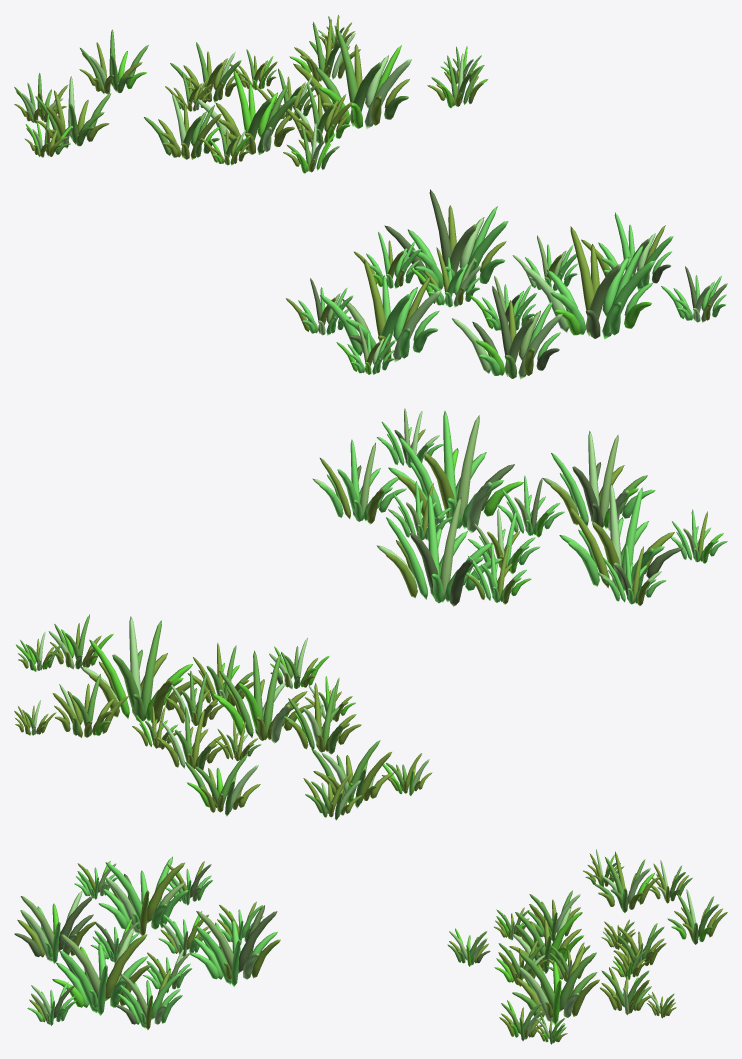
The model's file is Grama_pronta.fbx.
3 views of the same model, one above another, from view 1: azimuth 30°, elevation 25°; view 2: azimuth 150°, elevation 25°; view 3: azimuth 270°, elevation 25° (orthographic). The views are drawn at different scales.
Parts seen in each view (by area): view 1: Cube.098, Cube.109; view 2: Cube.098, Cube.109; view 3: Cube.098, Cube.109.
Part boxes in pixels (x1,y1,x2,y2): Cube.098: (286,189,727,379); Cube.109: (14,15,487,173); Cube.098: (312,408,727,606); Cube.109: (14,614,432,820); Cube.098: (14,856,280,1030); Cube.109: (447,849,727,1044).
Size of the model in its own units: 14445 by 3026 by 25140.
